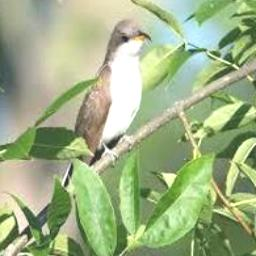Cuckoo: (56, 19, 152, 198)
